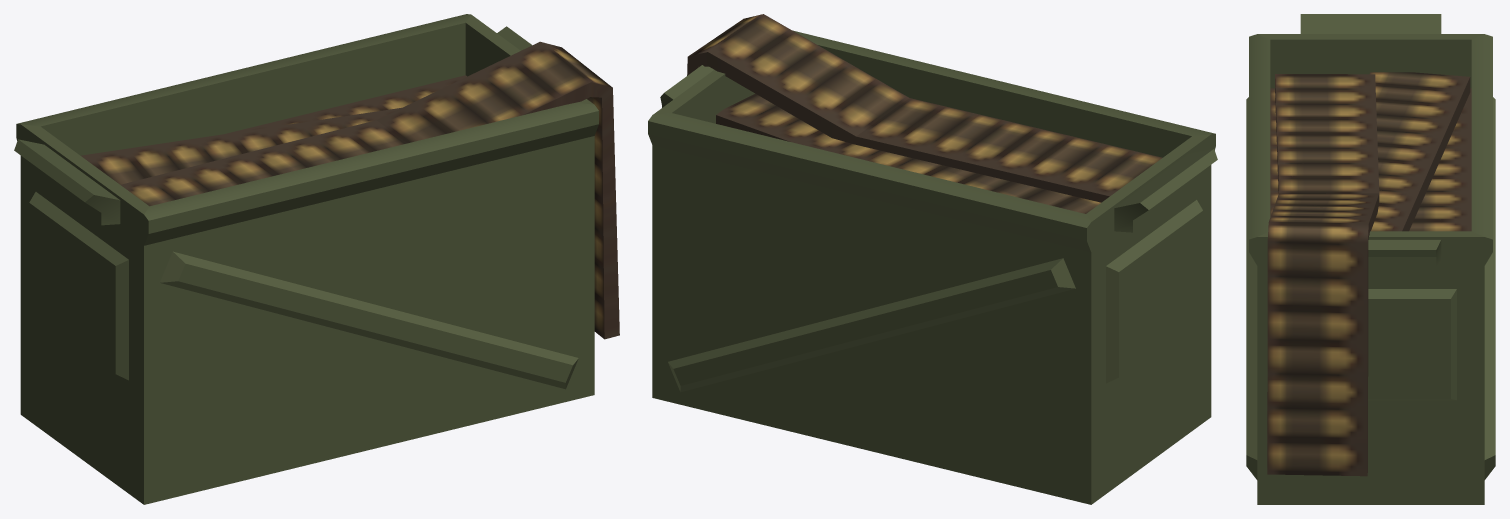
Rendered from SM_Prop_AmmoBox_04.glb.
3 views of the same model, side by side, from view 1: azimuth 30°, elevation 25°; view 2: azimuth 150°, elevation 25°; view 3: azimuth 270°, elevation 25° (orthographic). The views are drawn at different scales.
Parts seen in each view (by area): view 1: SM_Prop_AmmoBox_04; view 2: SM_Prop_AmmoBox_04; view 3: SM_Prop_AmmoBox_04.
Boxes of the visible parts, x1,y1,x2,y2 form: SM_Prop_AmmoBox_04: [14, 14, 619, 504]; SM_Prop_AmmoBox_04: [648, 14, 1217, 504]; SM_Prop_AmmoBox_04: [1246, 14, 1495, 504].
Bounding box in the file's own units: 0.5411 × 0.307 × 0.244.
1 material, 1 textured.
